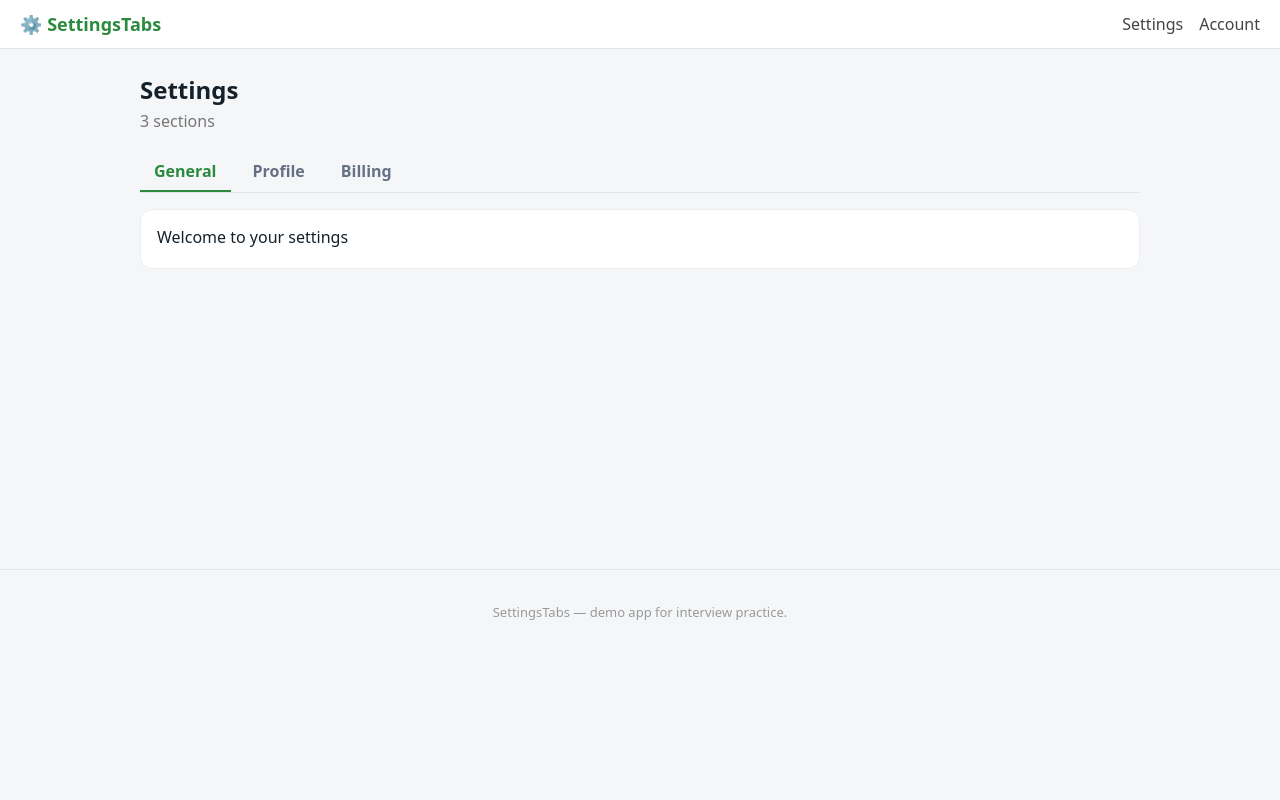
Test: m10 · SettingsTabs — app renders › navigates to the Account route via the navbar
This screenshot has width=1280, height=800.
Click the link with test id "nav-account": point(1230, 24) [1199,13,1260,35]
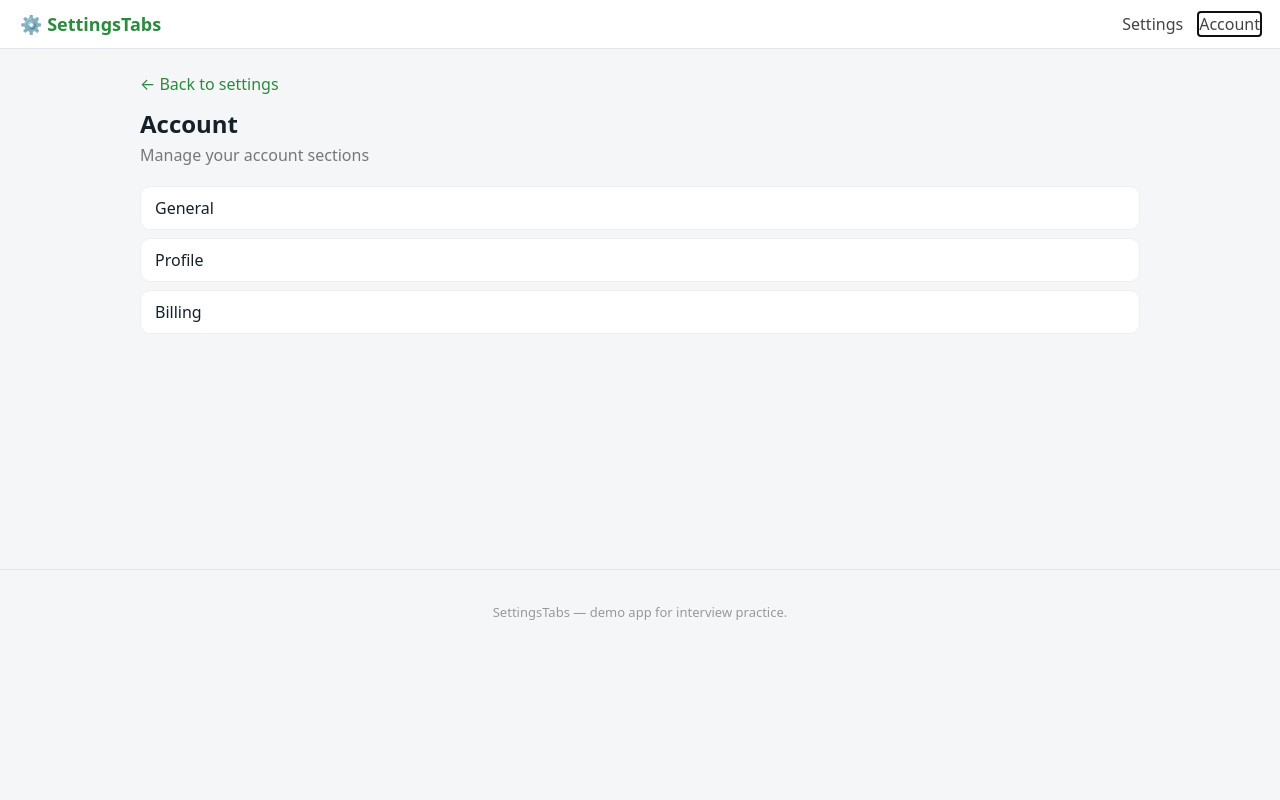
Expected: the element with test id "account-page" is shown, [120,49,1160,358]
